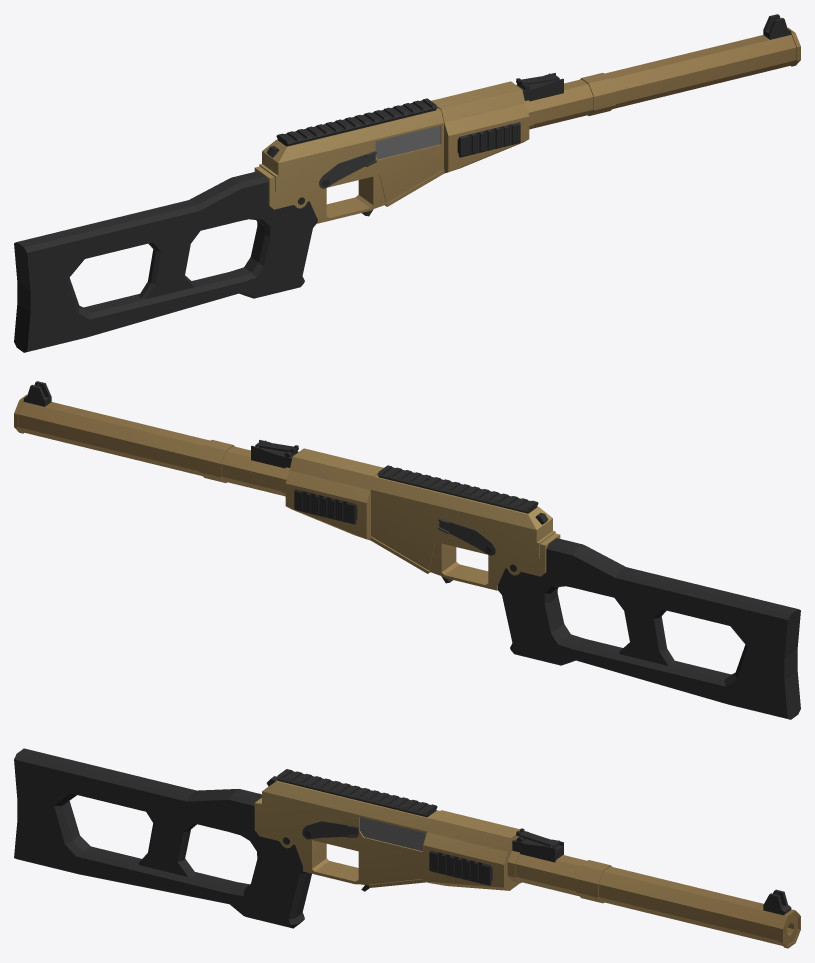
File: SniperRifle6_06.fbx
The picture shows the model from 3 angles, top to bottom: view 1: azimuth 30°, elevation 25°; view 2: azimuth 150°, elevation 25°; view 3: azimuth 330°, elevation 25°; orthographic projection.
Visible parts, largest first — view 1: SniperRifle6_06; view 2: SniperRifle6_06; view 3: SniperRifle6_06.
Part boxes in pixels (x1,y1,x2,y2): SniperRifle6_06: (14,14,800,352); SniperRifle6_06: (14,381,800,719); SniperRifle6_06: (14,748,800,948).
Bounding box in the file's own units: 0.9508 × 0.1767 × 0.0662.
